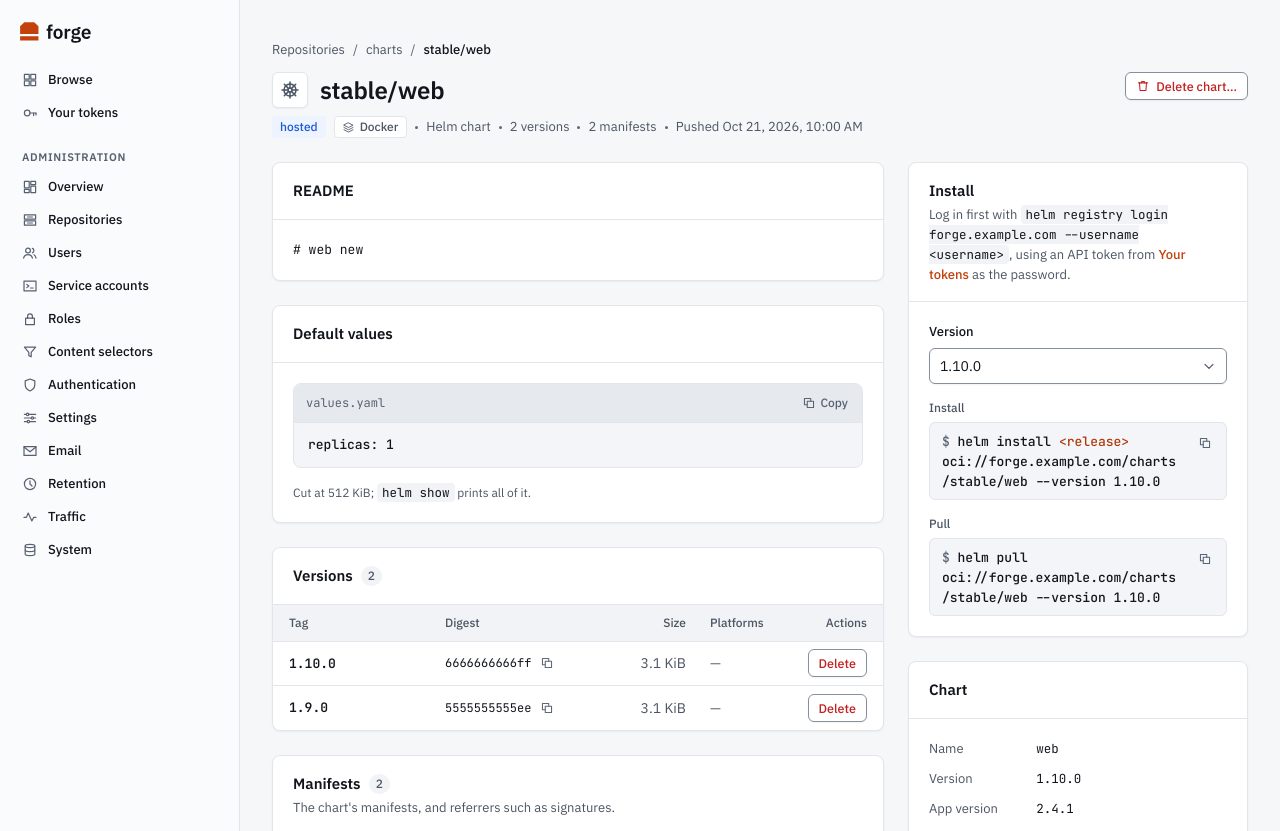
it: ImageDetail › a Helm chart › counts a version's other tags past the ones the server names
The width and height of the screenshot is (1280, 831).
Click the button with aria-label "Delete version 1.9.0" at (837, 708), box [808,694,867,722]
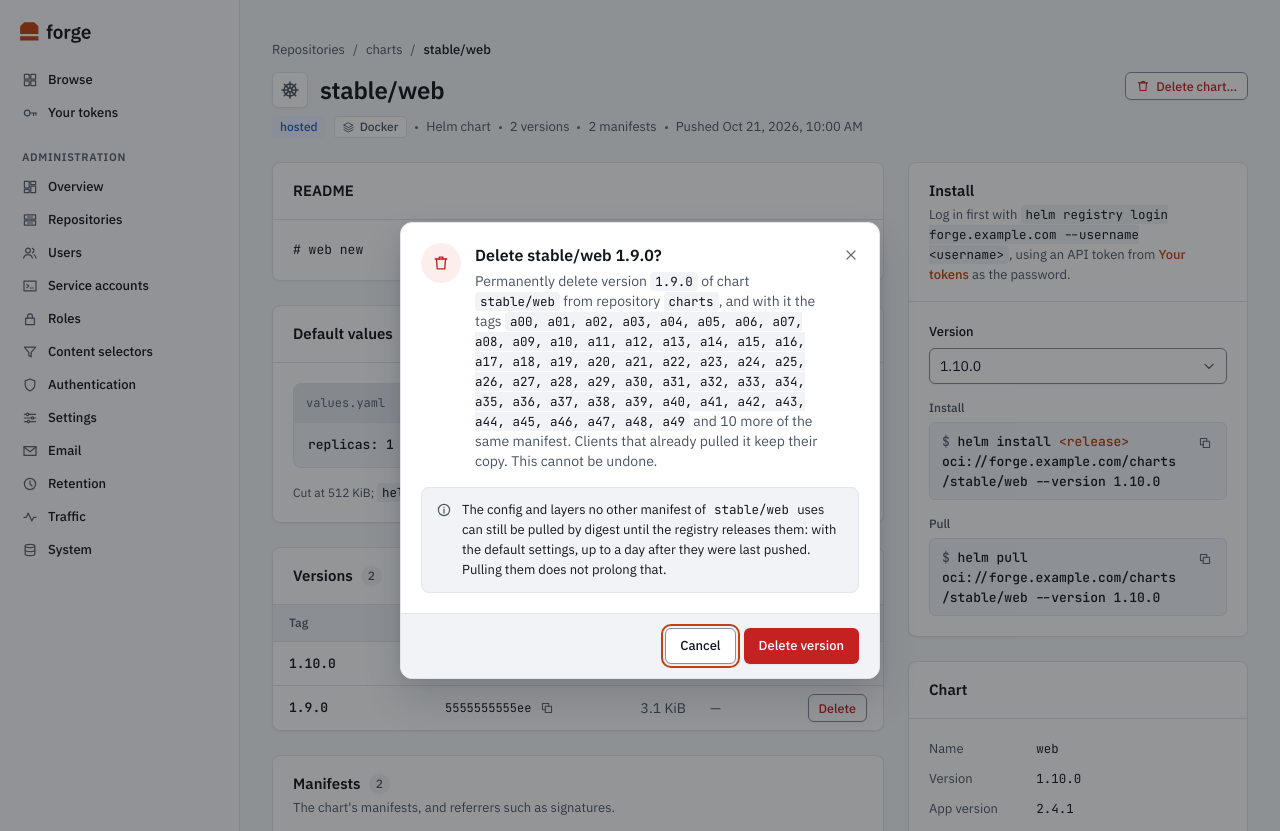
Expected: the button "Delete version" is enabled, [744,628,859,664]
Expected: the dialog shows "and with it the tags a00, a01,", [400,222,880,678]
Expected: the dialog shows "a49 and 10 more of the same manifest.", [400,222,880,678]
